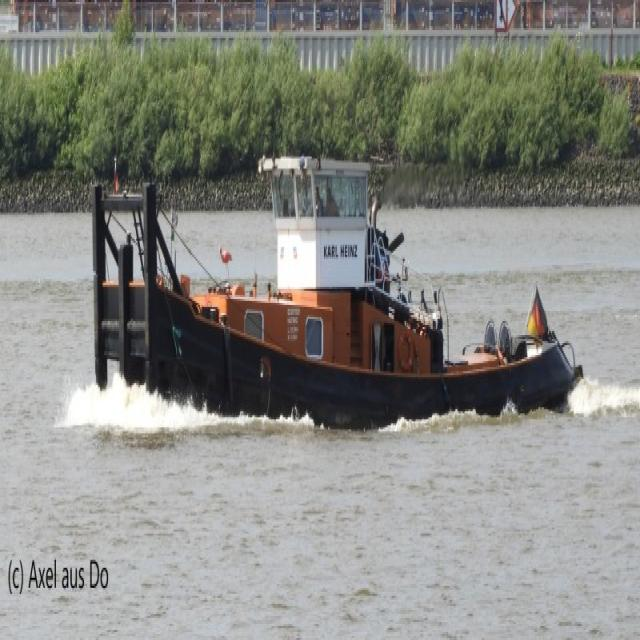tugboat: (88, 126, 591, 457)
